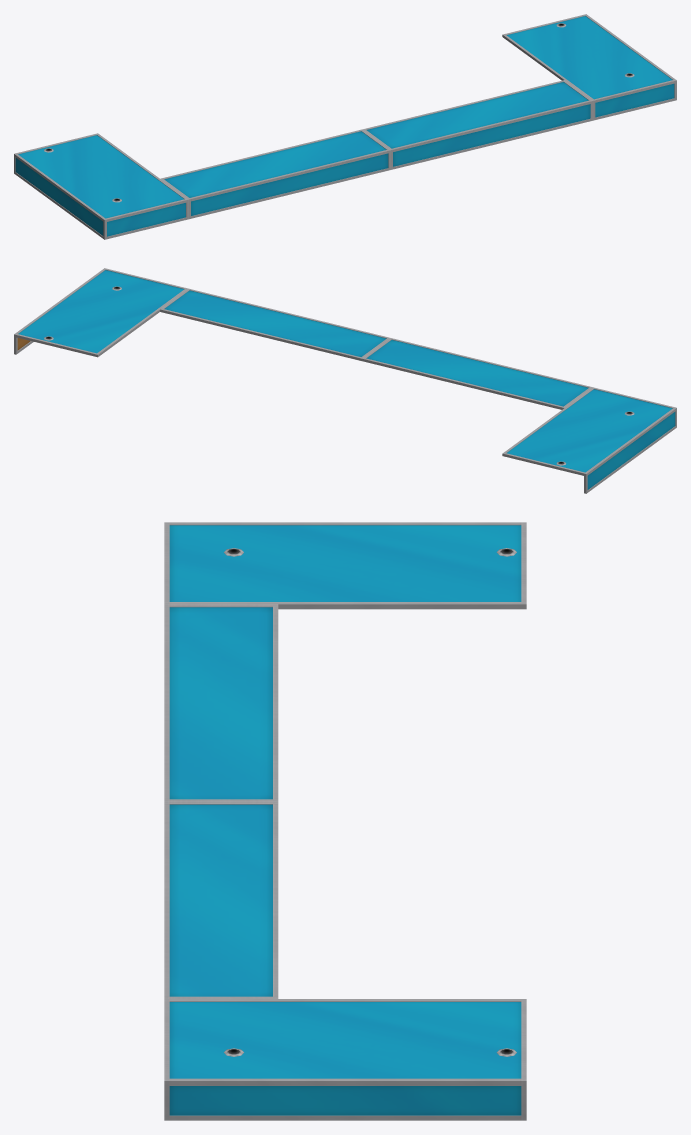
The model's file is jsf_4P_s04_c02_t03_DX.fbx.
3 renders of one model, top to bottom at view 1: azimuth 30°, elevation 25°; view 2: azimuth 150°, elevation 25°; view 3: azimuth 270°, elevation 25°, orthographic. The views are drawn at different scales.
Visible parts, largest first — view 1: jsf_4P_s04_c02_t03_DX; view 2: jsf_4P_s04_c02_t03_DX; view 3: jsf_4P_s04_c02_t03_DX.
Boxes of the visible parts, bbox=[...] form: jsf_4P_s04_c02_t03_DX: bbox=[14, 14, 676, 239]; jsf_4P_s04_c02_t03_DX: bbox=[14, 268, 676, 493]; jsf_4P_s04_c02_t03_DX: bbox=[164, 522, 526, 1120].
Bounding box in the file's own units: 378 × 12.99 × 104.
